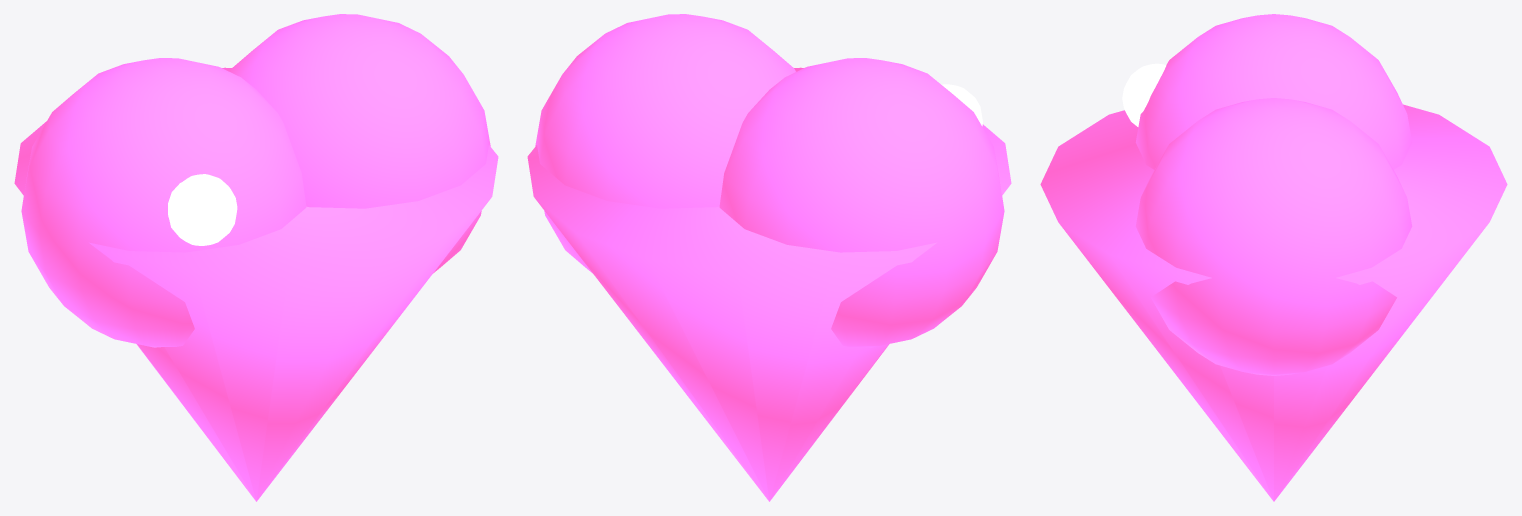
The model's file is potion_maxhealth.glb.
3 views of the same model, side by side, from view 1: azimuth 30°, elevation 25°; view 2: azimuth 150°, elevation 25°; view 3: azimuth 270°, elevation 25° (orthographic). The views are drawn at different scales.
Parts seen in each view (by area): view 1: h3, h1, h2, hl; view 2: h3, h1, h2; view 3: h2, h3, h1, hl.
Part boxes in pixels (x1,y1,x2,y2): h3: [14, 67, 498, 501]; h1: [21, 58, 306, 347]; h2: [230, 14, 490, 273]; hl: [168, 174, 237, 245]; h3: [527, 67, 1011, 501]; h1: [719, 58, 1004, 347]; h2: [535, 14, 795, 273]; h2: [1135, 98, 1412, 375]; h3: [1040, 104, 1507, 501]; h1: [1135, 14, 1412, 169]; hl: [1122, 63, 1166, 126].
Size of the model in its own units: 0.41 by 0.41 by 0.4.
